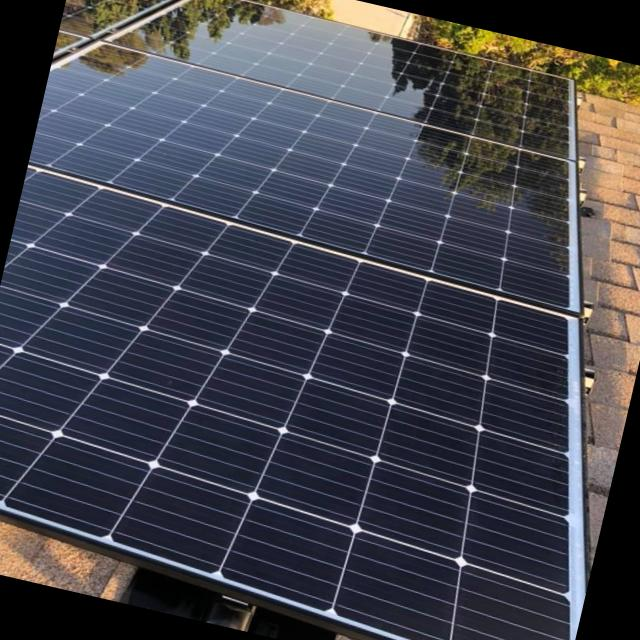no faulty: (0, 0, 570, 640)
